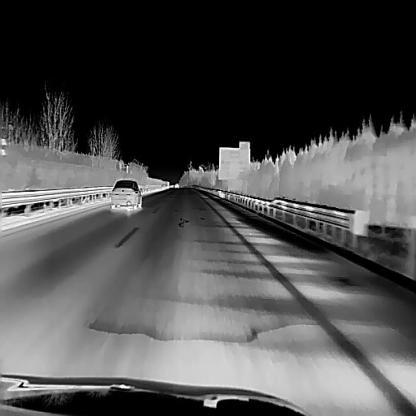car: (110, 178, 141, 209)
